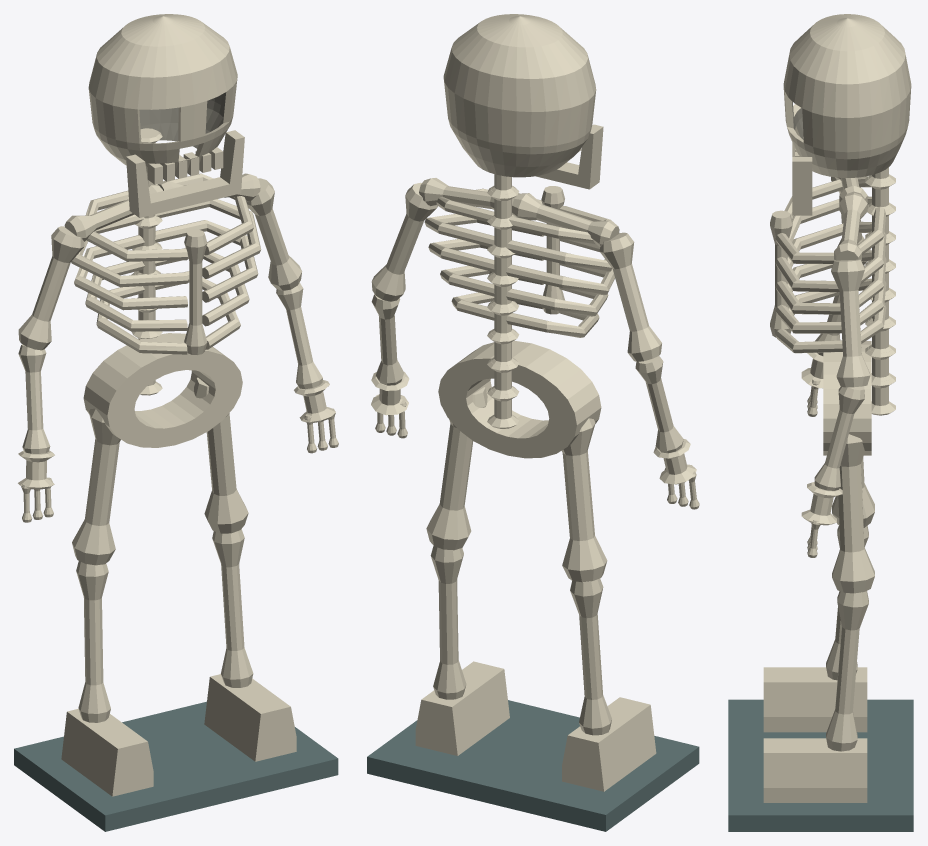
The picture shows the model from 3 angles, left to right: view 1: azimuth 30°, elevation 25°; view 2: azimuth 150°, elevation 25°; view 3: azimuth 270°, elevation 25°; orthographic projection. The views are drawn at different scales.
Visible parts, largest first — view 1: WholeHollowSkullWithTwoOrbitsAndNose, WholeDedicatedLowPlinth, WholeOpenPelvis, LeftWholeBroadForefoot, RightWholeBroadForefoot, WholeOpenLowerJaw, LeftWholeFemur, LeftWholeShin, RightWholeShin, RightWholeFemur, LeftWholeUpperArm, RightWholeUpperArm (+17 smaller); view 2: WholeHollowSkullWithTwoOrbitsAndNose, WholeDedicatedLowPlinth, WholeOpenPelvis, LeftWholeBroadForefoot, RightWholeBroadForefoot, LeftWholeFemur, RightWholeFemur, LeftWholeShin, RightWholeShin, LeftWholeUpperArm, RightWholeUpperArm, LeftWholeClavicle (+23 smaller); view 3: WholeHollowSkullWithTwoOrbitsAndNose, WholeDedicatedLowPlinth, RightWholeBroadForefoot, LeftWholeBroadForefoot, RightWholeFemur, RightWholeShin, RightWholeUpperArm, WholeOpenPelvis, RightWholeForearm, RightWholeClavicle, WholeRib2_1, WholeRib4_1 (+20 smaller).
Part boxes in pixels (left/top/right/bottom): WholeHollowSkullWithTwoOrbitsAndNose: left=88, top=14, right=237, bottom=172; WholeDedicatedLowPlinth: left=14, top=701, right=338, bottom=831; WholeOpenPelvis: left=83, top=333, right=242, bottom=447; LeftWholeBroadForefoot: left=61, top=709, right=153, bottom=796; RightWholeBroadForefoot: left=204, top=674, right=296, bottom=761; WholeOpenLowerJaw: left=126, top=130, right=244, bottom=217; LeftWholeFemur: left=72, top=408, right=120, bottom=565; LeftWholeShin: left=76, top=561, right=110, bottom=722; RightWholeShin: left=212, top=529, right=253, bottom=687; RightWholeFemur: left=194, top=377, right=248, bottom=533; LeftWholeUpperArm: left=18, top=226, right=84, bottom=350; RightWholeUpperArm: left=246, top=178, right=301, bottom=290; WholeHollowSkullWithTwoOrbitsAndNose: left=443, top=14, right=596, bottom=177; WholeDedicatedLowPlinth: left=367, top=700, right=699, bottom=831; WholeOpenPelvis: left=438, top=340, right=601, bottom=458; LeftWholeBroadForefoot: left=562, top=697, right=656, bottom=791; RightWholeBroadForefoot: left=415, top=661, right=509, bottom=755; LeftWholeFemur: left=562, top=418, right=607, bottom=582; RightWholeFemur: left=426, top=387, right=487, bottom=550; LeftWholeShin: left=570, top=578, right=611, bottom=735; RightWholeShin: left=430, top=545, right=466, bottom=699; LeftWholeUpperArm: left=599, top=232, right=661, bottom=361; RightWholeUpperArm: left=371, top=182, right=437, bottom=301; LeftWholeClavicle: left=512, top=193, right=619, bottom=246; WholeHollowSkullWithTwoOrbitsAndNose: left=783, top=14, right=911, bottom=177; WholeDedicatedLowPlinth: left=728, top=699, right=913, bottom=831; RightWholeBroadForefoot: left=763, top=738, right=867, bottom=802; LeftWholeBroadForefoot: left=763, top=667, right=867, bottom=732; RightWholeFemur: left=832, top=434, right=874, bottom=593; RightWholeShin: left=826, top=591, right=868, bottom=751; RightWholeUpperArm: left=831, top=259, right=870, bottom=387; WholeOpenPelvis: left=823, top=341, right=871, bottom=455; RightWholeForearm: left=814, top=386, right=864, bottom=490; RightWholeClavicle: left=834, top=193, right=867, bottom=260; WholeRib2_1: left=775, top=256, right=886, bottom=314; WholeRib4_1: left=775, top=206, right=885, bottom=263.
Size of the model in its own units: 0.8396 by 1.89 by 0.42.
